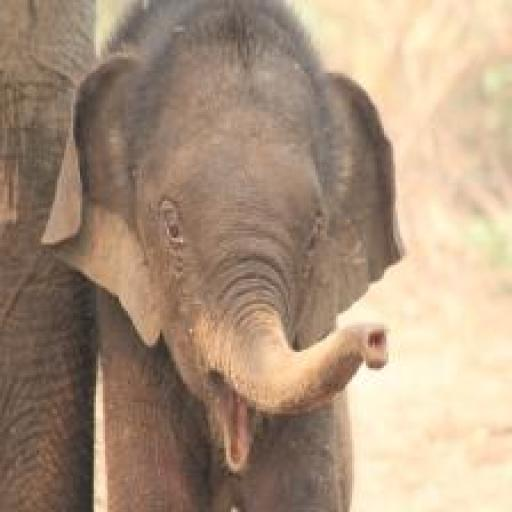Elephant: (44, 0, 409, 512)
